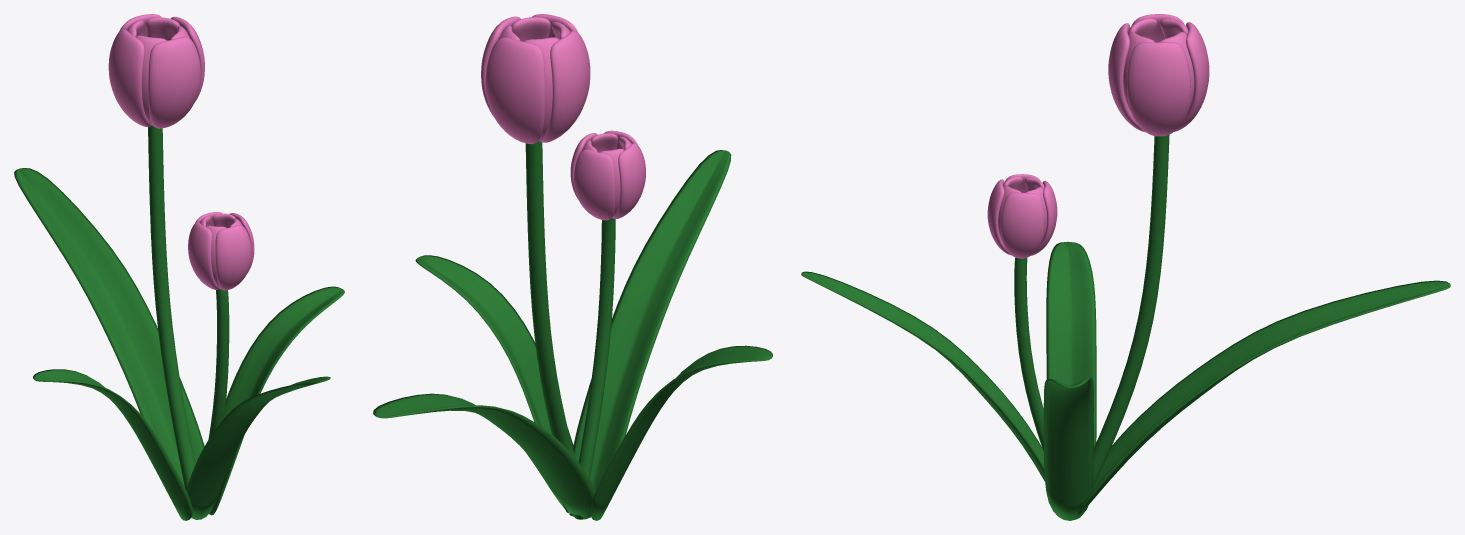
The model's file is tulips_pink.fbx.
3 views of the same model, side by side, from view 1: azimuth 30°, elevation 25°; view 2: azimuth 150°, elevation 25°; view 3: azimuth 270°, elevation 25° (orthographic). The views are drawn at different scales.
Parts seen in each view (by area): view 1: Cube, Sphere; view 2: Cube, Sphere; view 3: Cube, Sphere.
Part boxes in pixels (x1,y1,x2,y2): Cube: [14, 125, 344, 520]; Sphere: [108, 14, 254, 290]; Cube: [373, 141, 772, 520]; Sphere: [481, 14, 645, 220]; Cube: [801, 134, 1450, 520]; Sphere: [987, 14, 1209, 258].
Bounding box in the file's own units: 676 × 958 × 1154.
